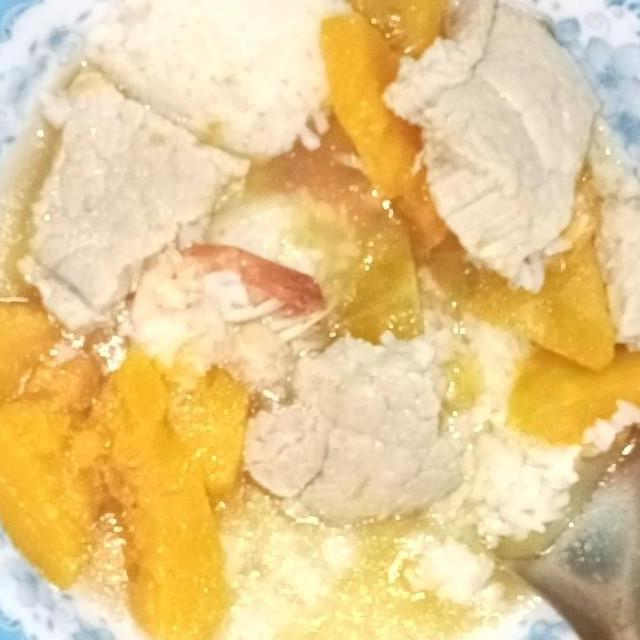com: (404, 294, 638, 554), (76, 0, 362, 168), (196, 498, 368, 640)
thit heo: (4, 59, 258, 346), (372, 0, 611, 300), (232, 320, 488, 536), (587, 175, 640, 358)
